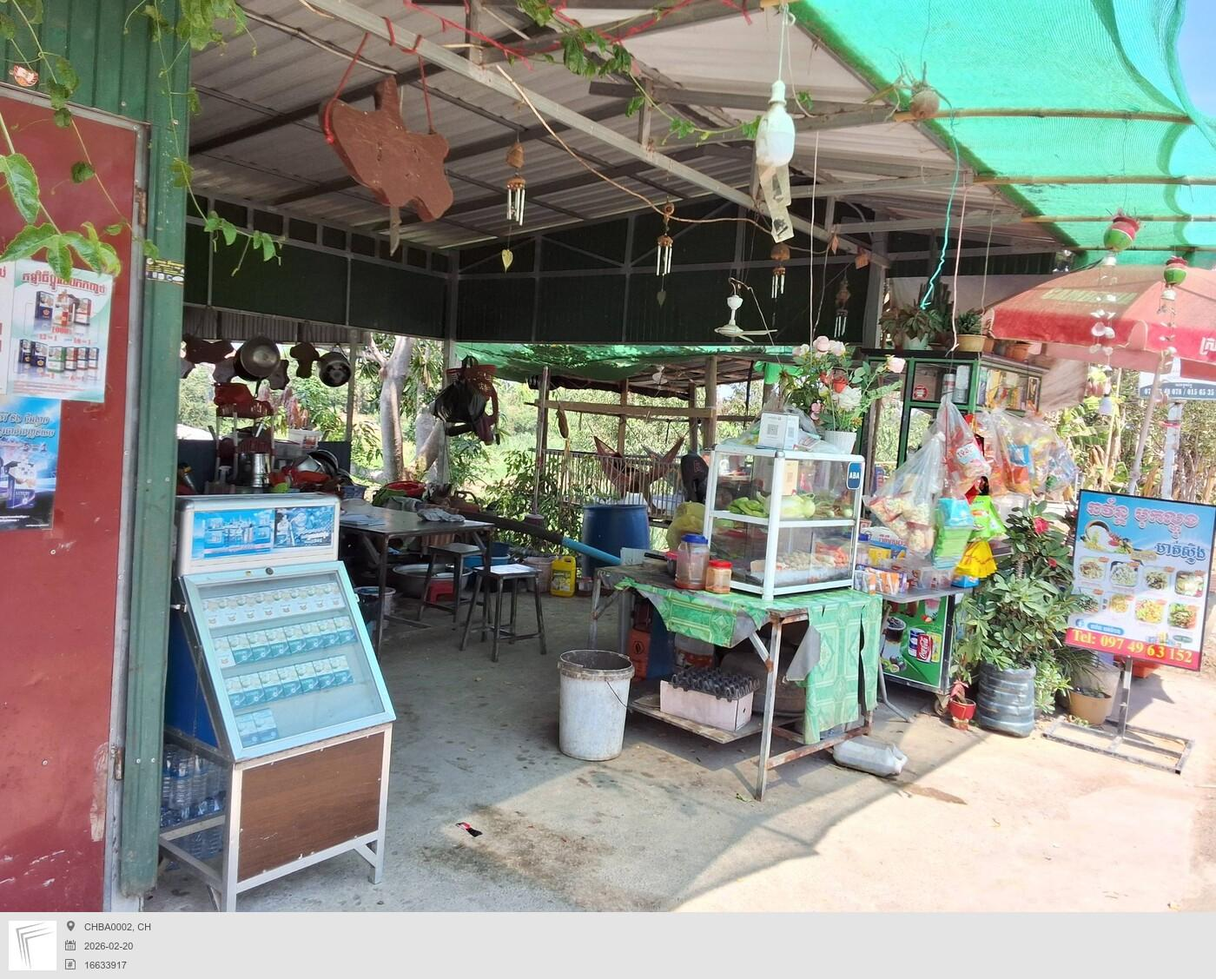cigarette_pack: (953, 307, 988, 353), (252, 704, 282, 737), (231, 711, 262, 742), (226, 633, 255, 663), (264, 627, 293, 656), (238, 674, 269, 701), (223, 676, 250, 706), (257, 670, 288, 696), (317, 579, 346, 606), (212, 636, 239, 665), (334, 615, 361, 644), (276, 666, 305, 693), (295, 660, 322, 689), (247, 631, 275, 658), (283, 624, 309, 653), (317, 617, 343, 645), (328, 656, 356, 682), (312, 659, 339, 685), (199, 599, 223, 628), (302, 620, 326, 649), (221, 596, 243, 627), (255, 591, 277, 621), (288, 586, 310, 612), (271, 591, 295, 614), (238, 593, 257, 621), (307, 585, 329, 609)
